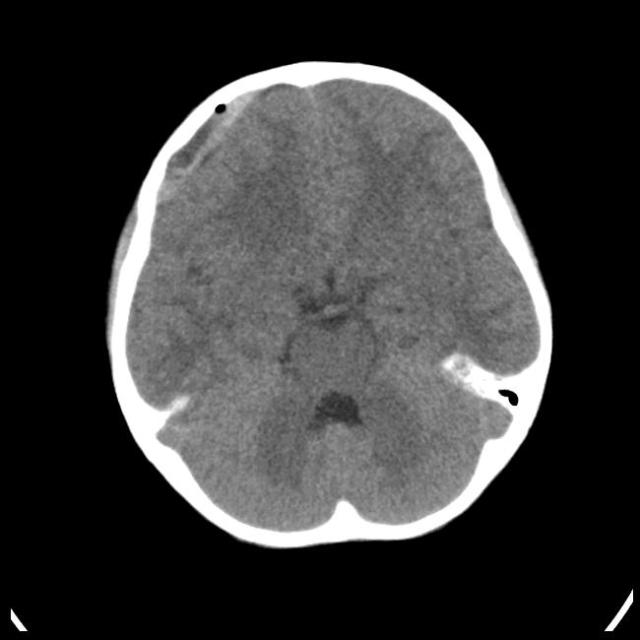lesion: (105, 61, 556, 548)
